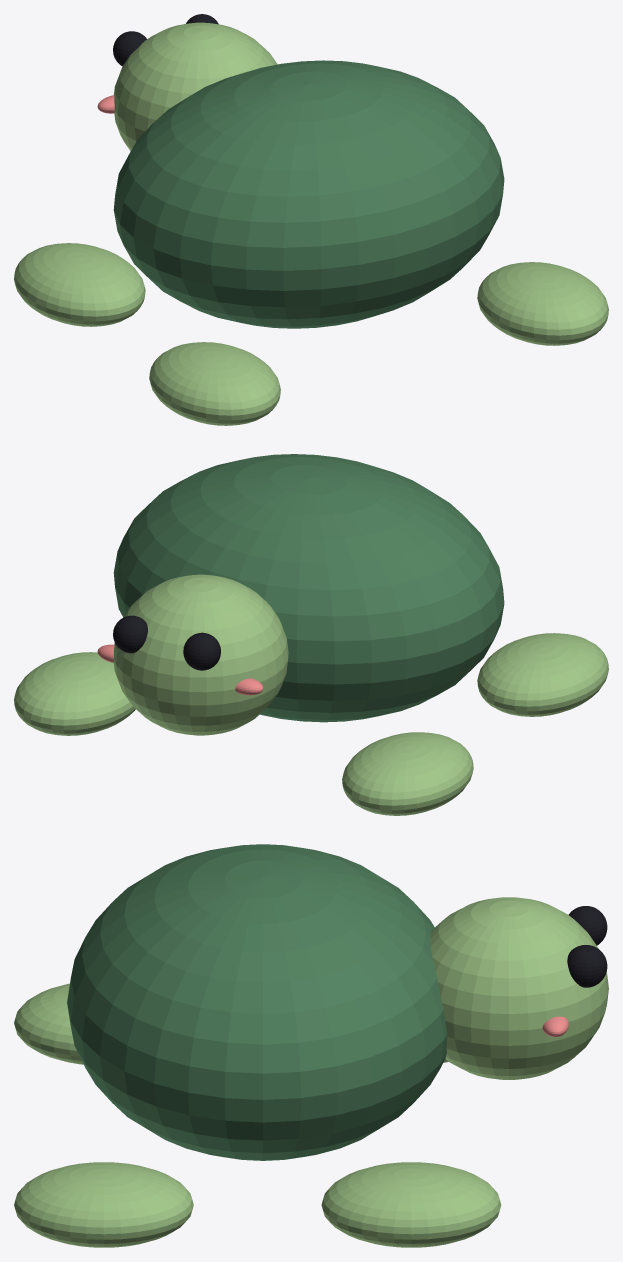
The model's file is turtle.glb.
3 views of the same model, one above another, from view 1: azimuth 30°, elevation 25°; view 2: azimuth 150°, elevation 25°; view 3: azimuth 270°, elevation 25° (orthographic). The views are drawn at different scales.
Visible parts, largest first — view 1: shell, flipper_1_1, eye_1; view 2: shell, flipper_1_1, eye_1, blush_1; view 3: shell, flipper_1_1, eye_1.
Boxes of the visible parts, x1=… form: shell: x1=113, y1=60, x2=504, y2=328; flipper_1_1: x1=14, y1=22, x2=608, y2=425; eye_1: x1=113, y1=14, x2=218, y2=66; shell: x1=113, y1=454, x2=504, y2=722; flipper_1_1: x1=14, y1=574, x2=608, y2=815; eye_1: x1=113, y1=615, x2=220, y2=670; blush_1: x1=97, y1=644, x2=263, y2=695; shell: x1=67, y1=844, x2=447, y2=1160; flipper_1_1: x1=14, y1=897, x2=608, y2=1247; eye_1: x1=567, y1=906, x2=607, y2=987.
Size of the model in its own units: 0.74 by 0.385 by 0.774.
